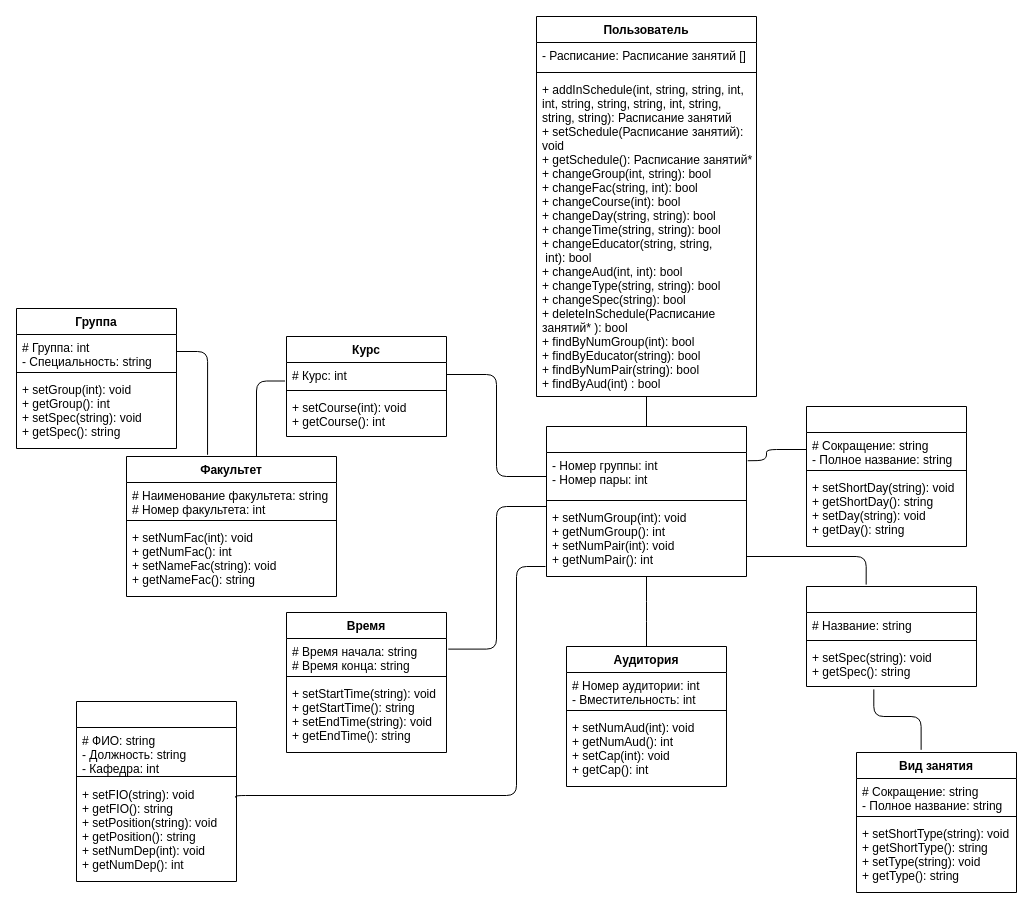
Image size: 1033x909. Some labels were removed from this diagram. The box of each missing label's shape, as (x1, y1, x2, y2) in pixels:
День недели: (806, 406, 966, 546)
Дисциплина: (806, 586, 976, 686)
Преподаватель: (76, 700, 236, 882)
Расписание занятий: (546, 426, 746, 576)
